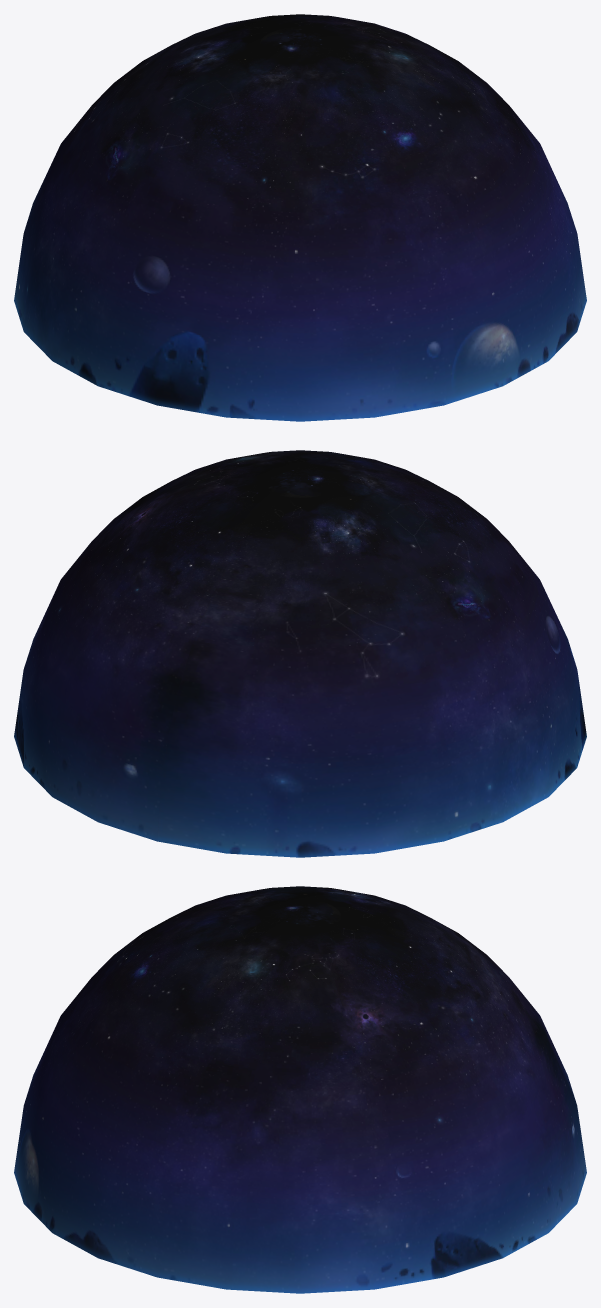
The model's file is skydome.obj.
3 renders of one model, top to bottom at view 1: azimuth 30°, elevation 25°; view 2: azimuth 150°, elevation 25°; view 3: azimuth 270°, elevation 25°, orthographic.
Parts seen in each view (by area): view 1: object_0; view 2: object_0; view 3: object_0.
Part boxes in pixels (x1,y1,x2,y2): object_0: (14,14,586,421); object_0: (14,450,586,857); object_0: (14,886,586,1293).
Bounding box in the file's own units: 11115 × 5557 × 11115.
Materials: 1 (1 with a texture image).
